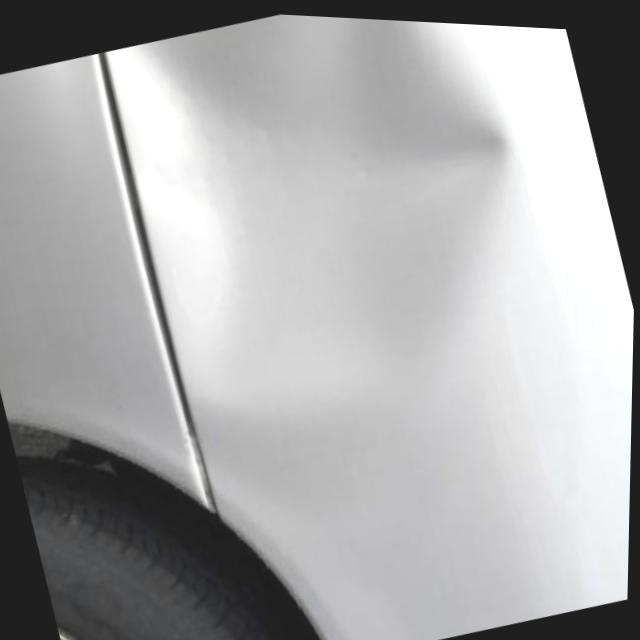Dent: (101, 14, 512, 415)
